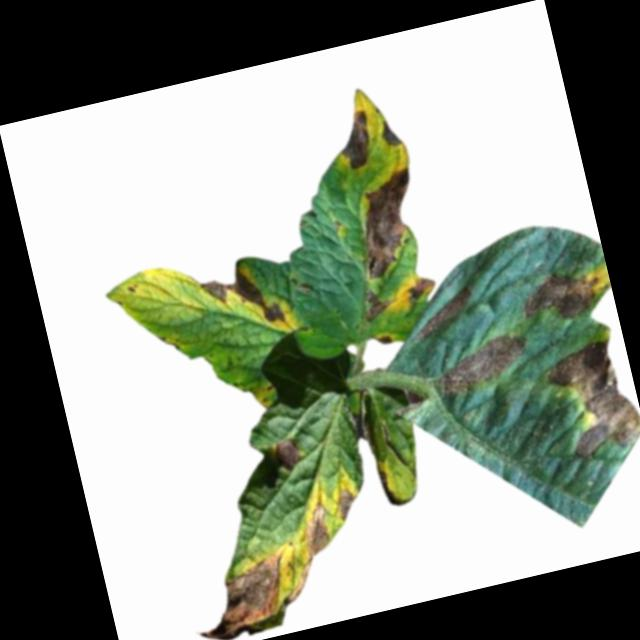Early_blight: (173, 502, 351, 640), (541, 337, 640, 465), (347, 167, 434, 282), (197, 258, 289, 341), (516, 261, 616, 331), (432, 329, 536, 396), (409, 286, 481, 339), (332, 107, 377, 172), (332, 486, 363, 524), (361, 287, 391, 321), (274, 439, 304, 473), (378, 118, 406, 152), (407, 276, 437, 302), (374, 333, 395, 350)
